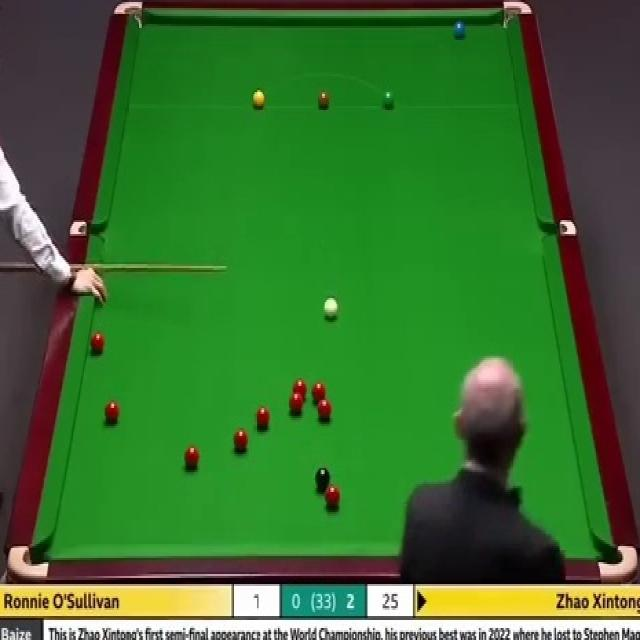pocket: (596, 542, 638, 582), (7, 542, 50, 578), (110, 0, 146, 31), (500, 1, 532, 32), (540, 218, 576, 238), (70, 221, 103, 237)
